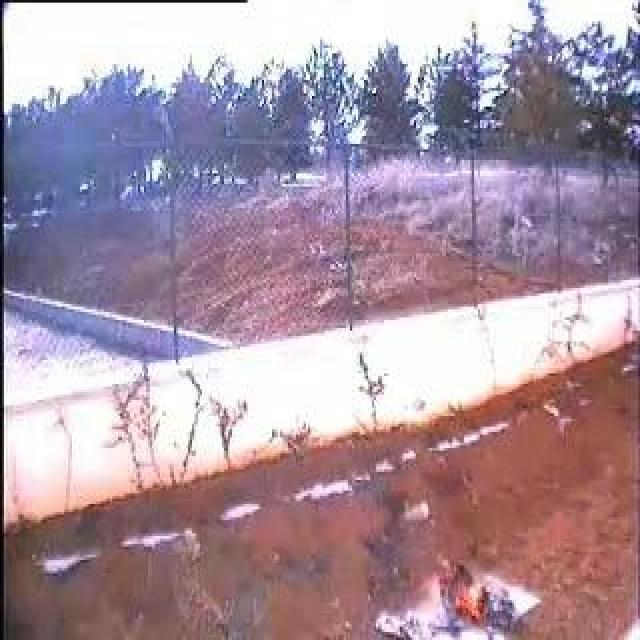Fire: (437, 557, 489, 624)
